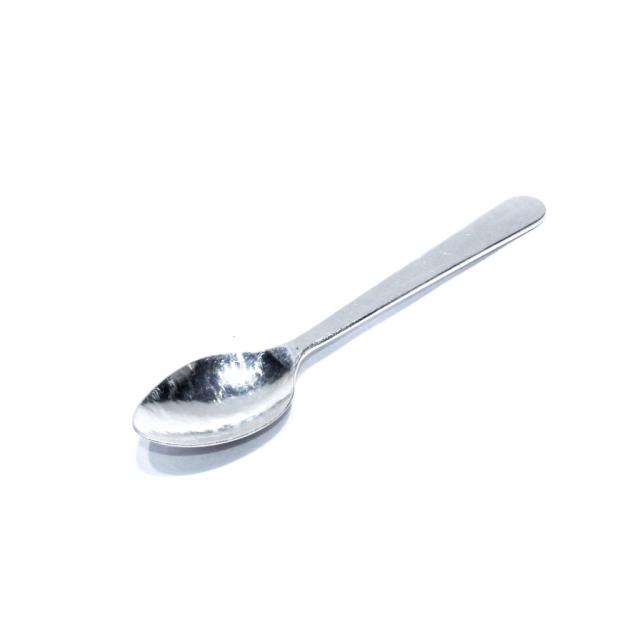spoon: (113, 172, 559, 467)
